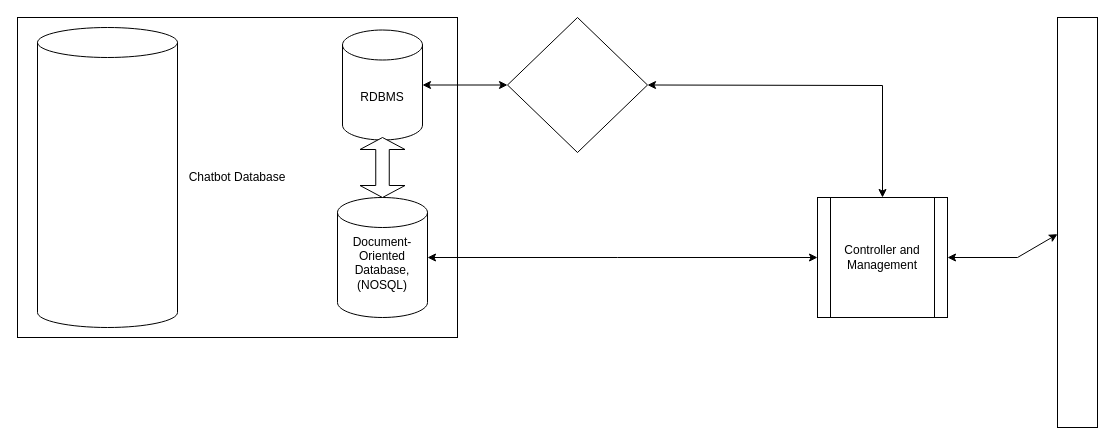
The diagram is 1115 pixels wide and 445 high, and some of its shapes have lost their labels. The centre of each missing label's shape, as x and y in pixels:
"A P I L a y e r" belongs at pixel 1077 222.
"Authentication and Authorisation" belongs at pixel 577 84.
